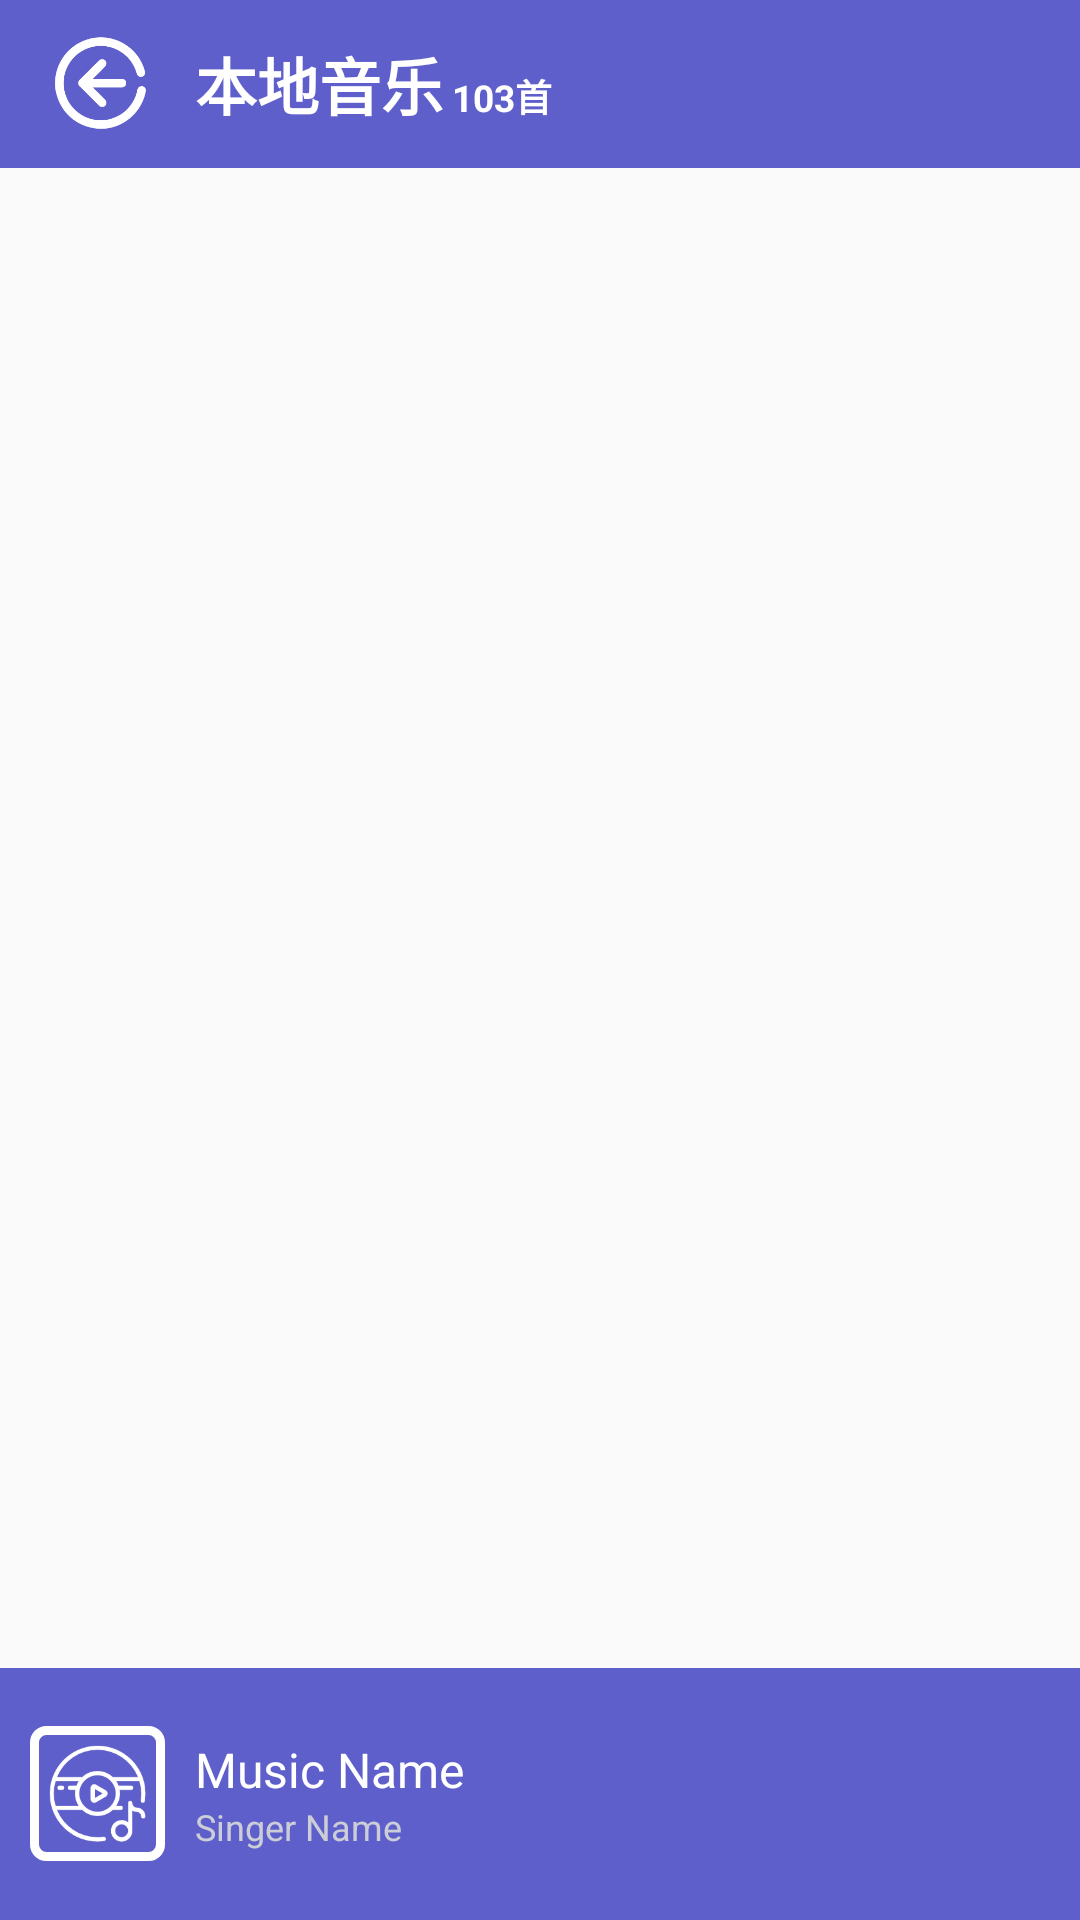

Point at icon controls on the screen. Image size 1080 x 1920, points as point (x, y).
back: point (100, 83)
